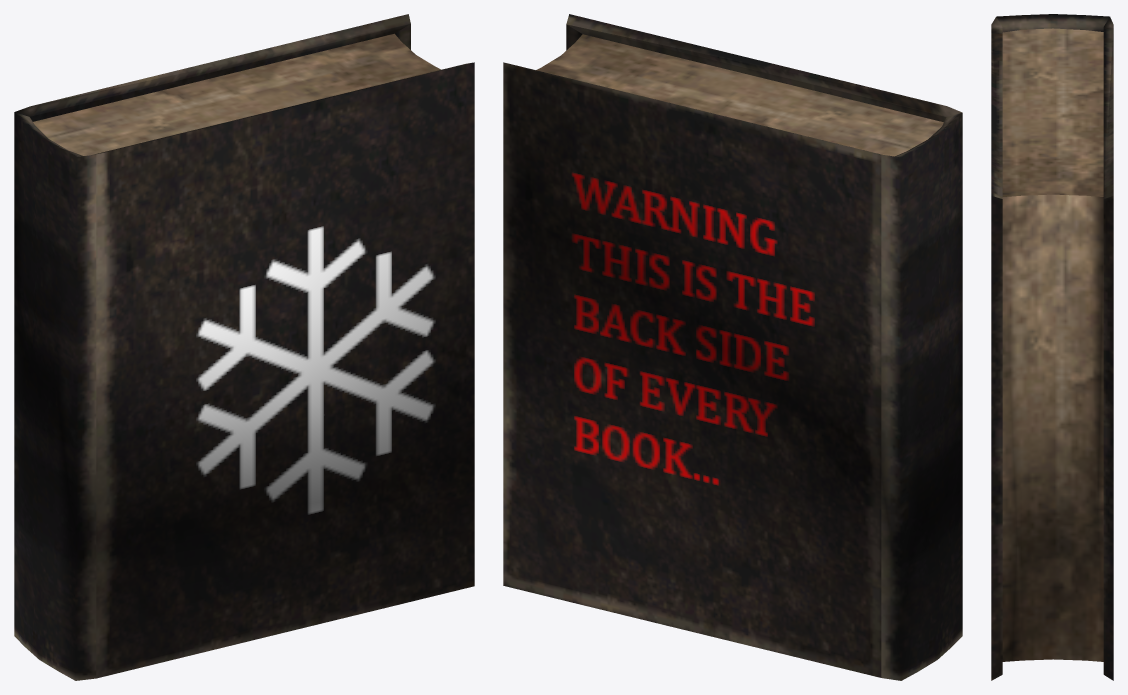
File: SOTR_Biblio_M.dae
3 renders of one model, left to right at view 1: azimuth 30°, elevation 25°; view 2: azimuth 150°, elevation 25°; view 3: azimuth 270°, elevation 25°, orthographic. The views are drawn at different scales.
Parts seen in each view (by area): view 1: pCube1; view 2: pCube1; view 3: pCube1.
Boxes of the visible parts, x1,y1,x2,y2 form: pCube1: [14, 14, 474, 680]; pCube1: [503, 14, 962, 680]; pCube1: [991, 14, 1113, 680].
Bounding box in the file's own units: 0.2811 × 0.08 × 0.35.
Materials: 1 (1 with a texture image).
